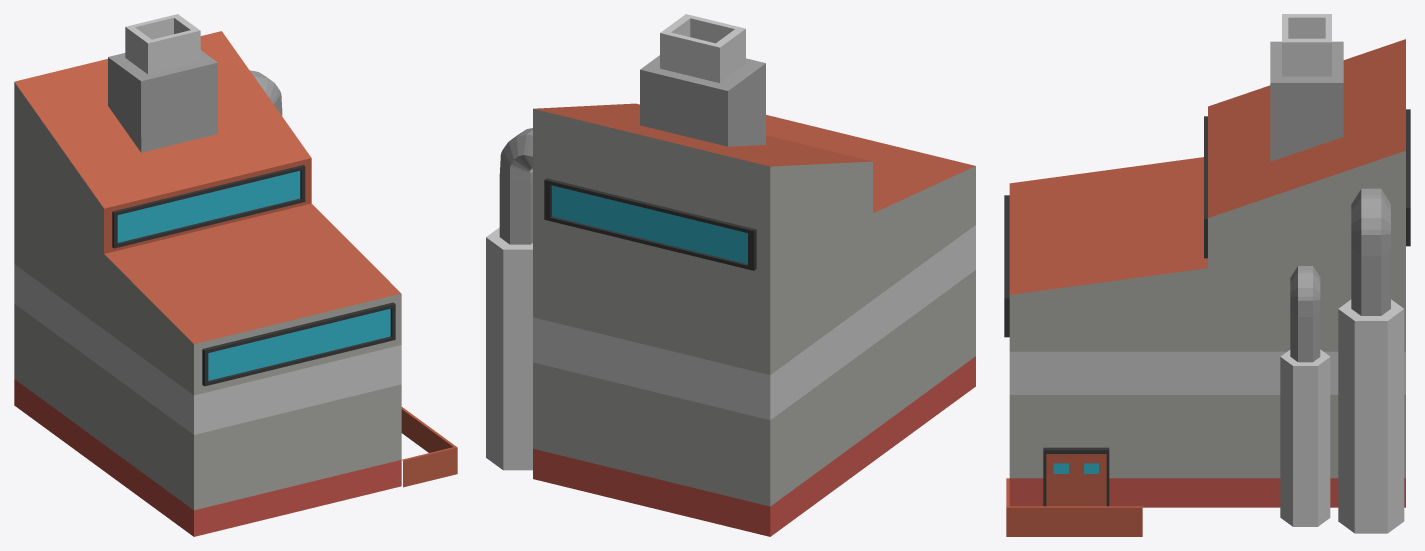
File: FactoryBuilding02.fbx
3 views of the same model, side by side, from view 1: azimuth 30°, elevation 25°; view 2: azimuth 150°, elevation 25°; view 3: azimuth 270°, elevation 25° (orthographic). The views are drawn at different scales.
Visible parts, largest first — view 1: Cube; view 2: Cube; view 3: Cube.
Part boxes in pixels (bbox=[...]): Cube: bbox=[14, 14, 457, 536]; Cube: bbox=[486, 14, 975, 536]; Cube: bbox=[1004, 14, 1410, 536].
Size of the model in its own units: 1011 by 1416 by 1230.
